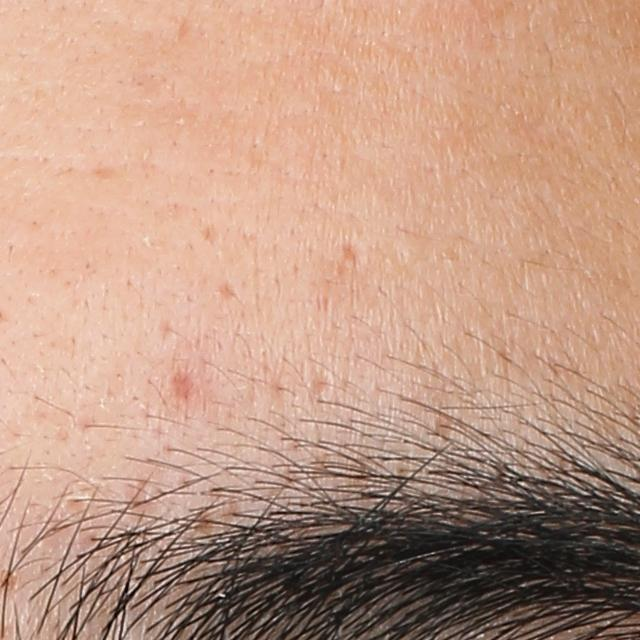atrophic_scar: (163, 363, 202, 407), (338, 239, 375, 266), (214, 278, 244, 303)
